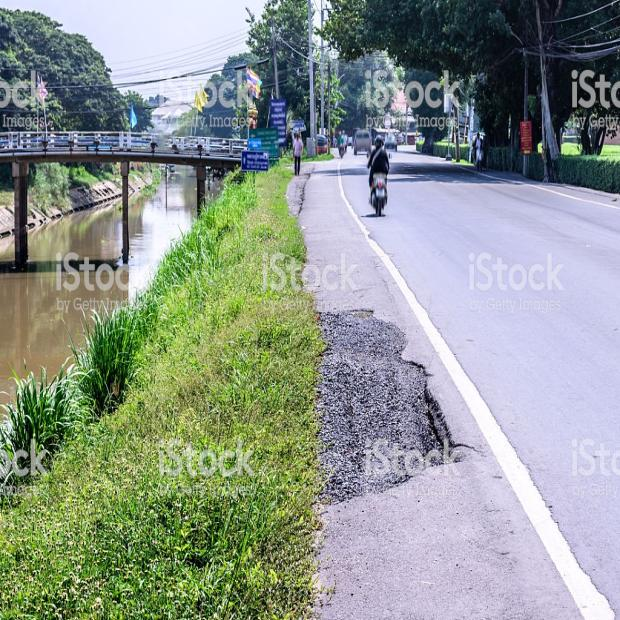lubang: (318, 312, 461, 502)
